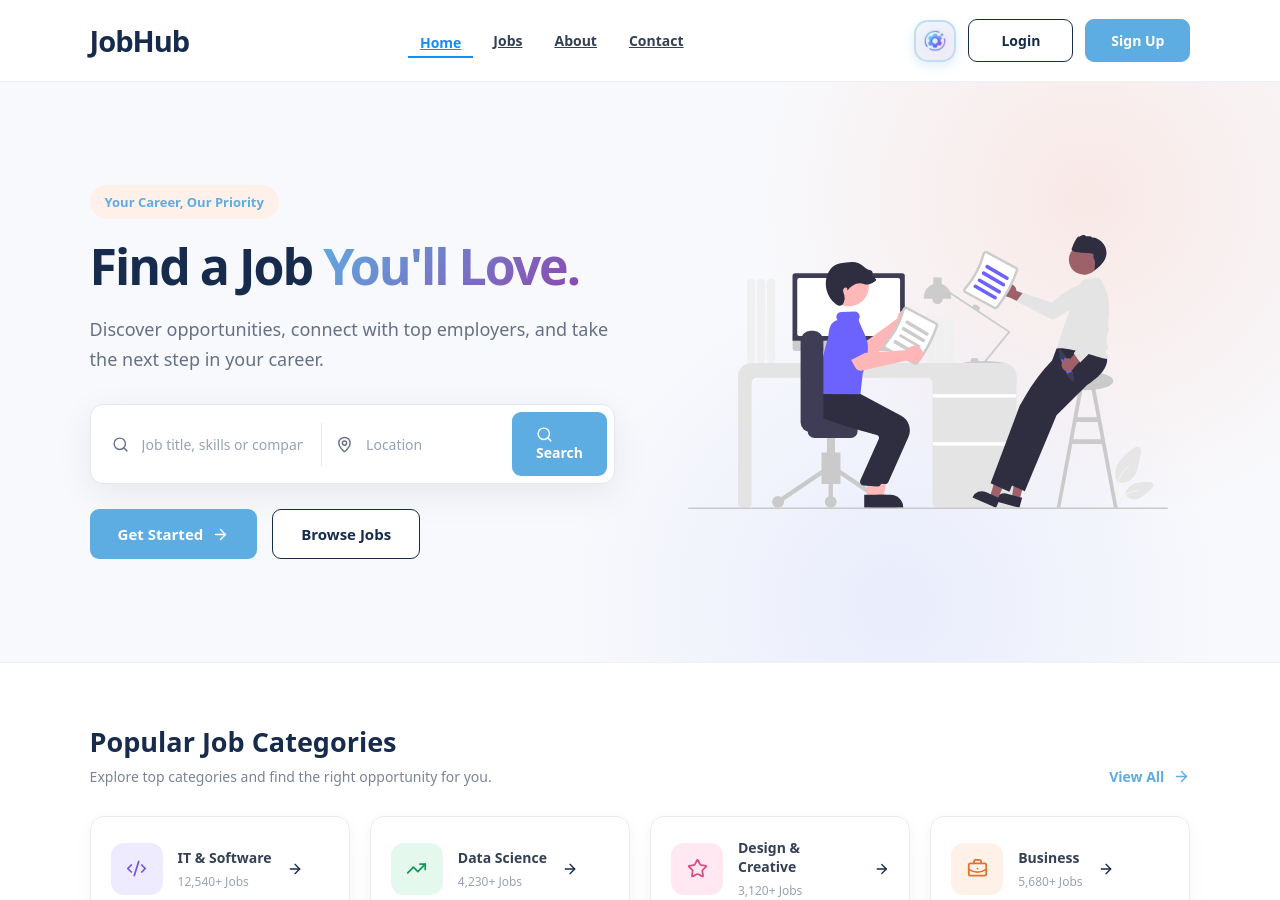
Test: typing a search that matches nothing shows the empty state
This screenshot has width=1280, height=900.
Click the button "Browse Jobs": (346, 534) [272,509,420,559]
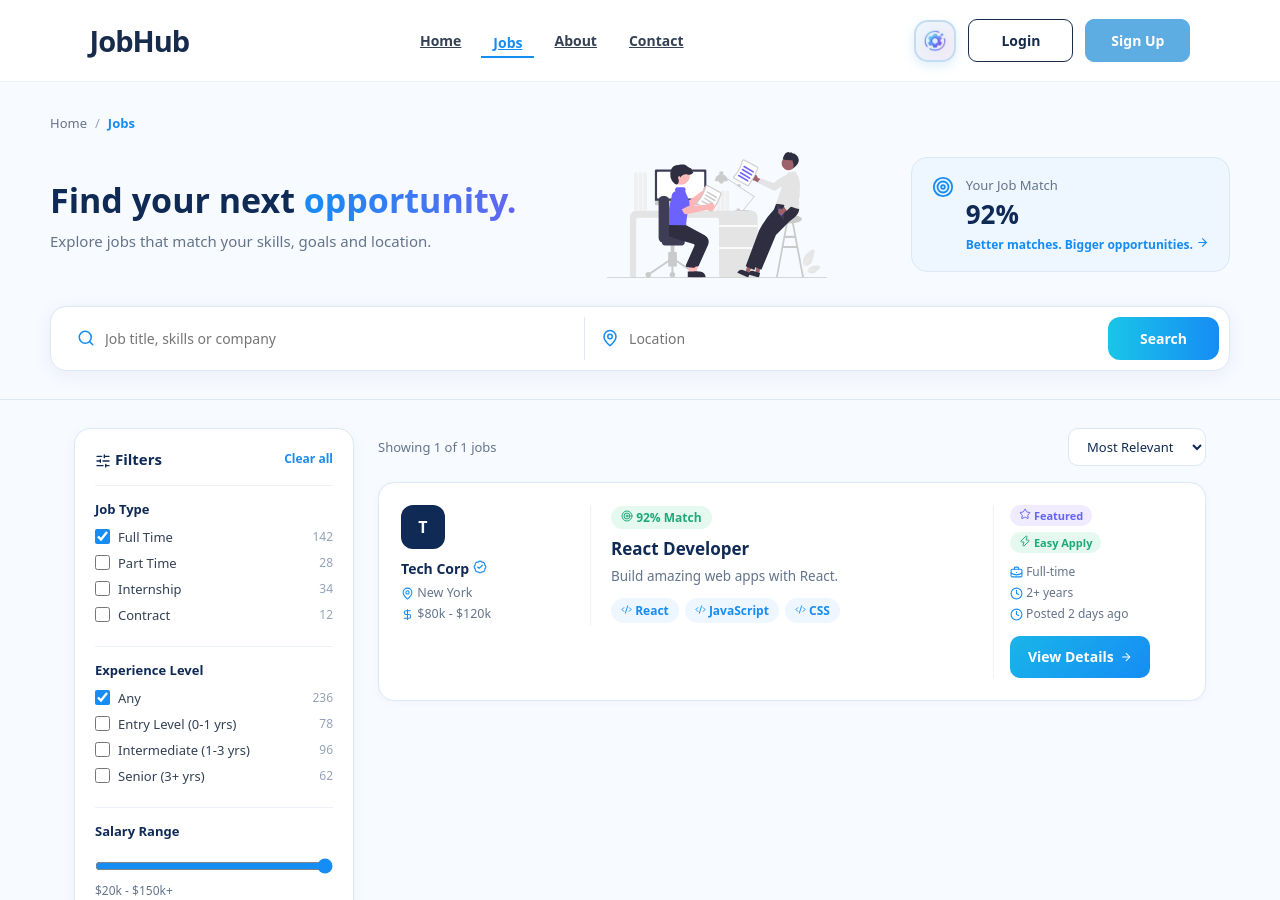
Result: the heading "React Developer" is shown at [611,537,749,560]
In the field with placeholder "Job title, skills or company": (332, 338) [105,329,558,348], type "zzzz-no-such-job"
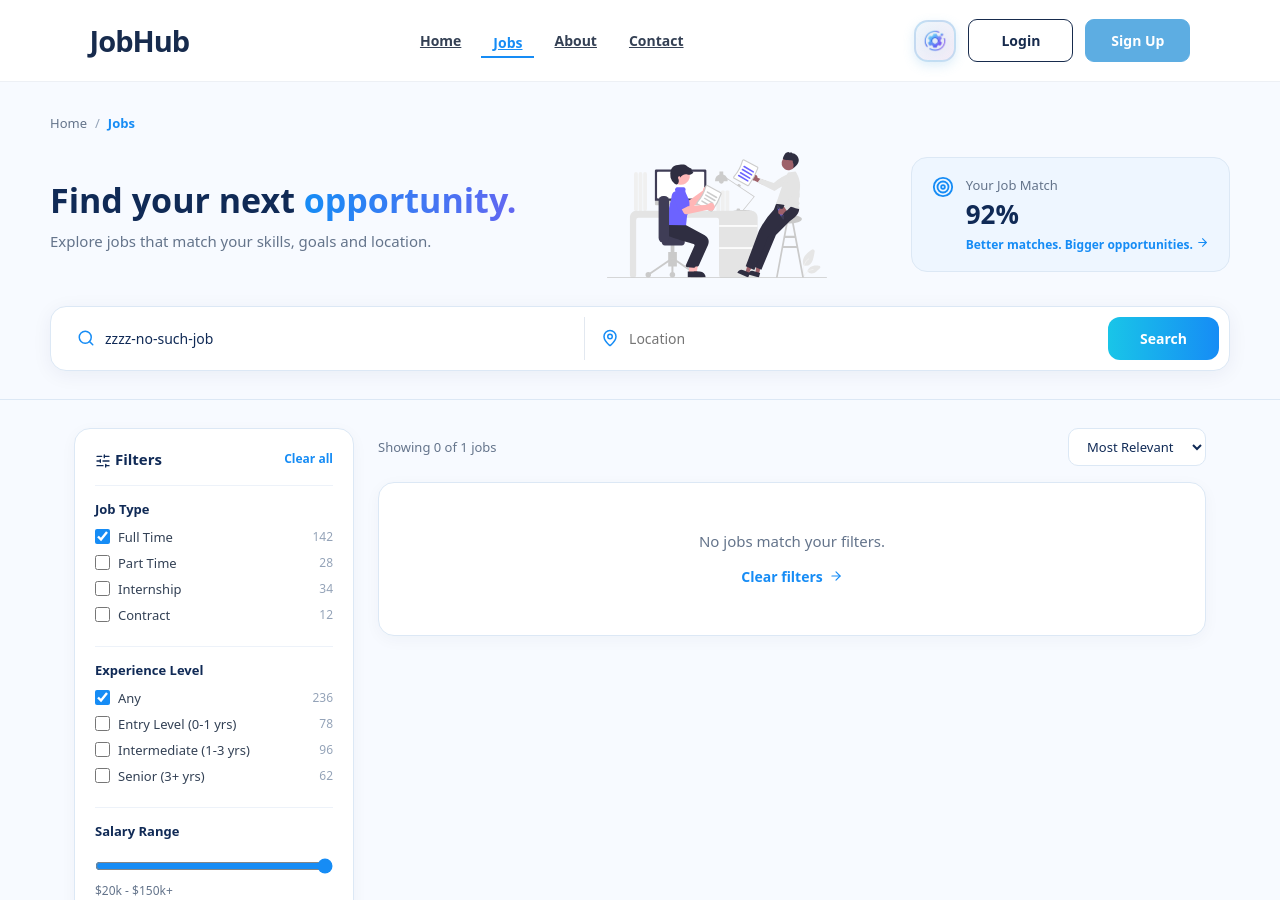
Result: the text "No jobs match your filters." is shown at [699,531,885,551]
